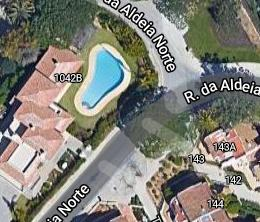pool: (74, 41, 132, 116)
